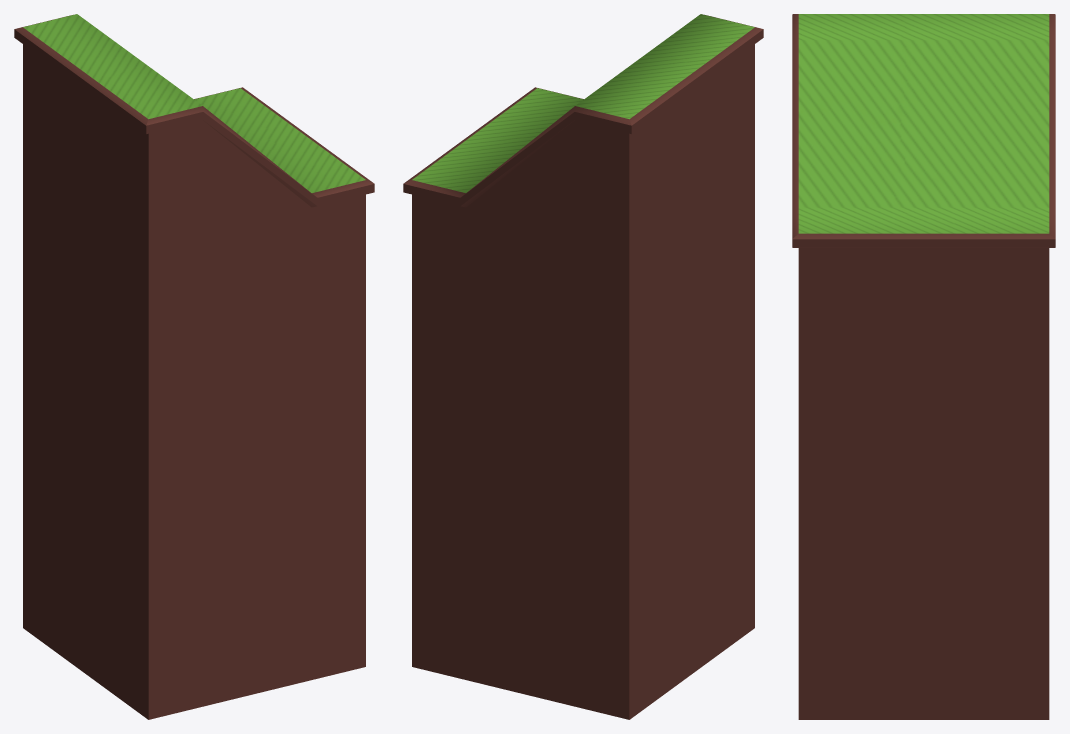
File: Ground_Bricks_1_U__2.fbx
3 renders of one model, left to right at view 1: azimuth 30°, elevation 25°; view 2: azimuth 150°, elevation 25°; view 3: azimuth 270°, elevation 25°, orthographic.
Visible parts, largest first — view 1: Ground_Bricks_1_U__2; view 2: Ground_Bricks_1_U__2; view 3: Ground_Bricks_1_U__2.
Boxes of the visible parts, bbox=[...] form: Ground_Bricks_1_U__2: bbox=[14, 14, 374, 719]; Ground_Bricks_1_U__2: bbox=[403, 14, 763, 719]; Ground_Bricks_1_U__2: bbox=[792, 14, 1055, 719].
Size of the model in its own units: 4.2 by 10.55 by 4.2.
